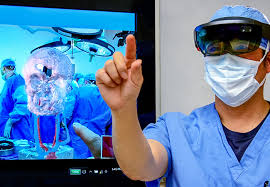hololens: (193, 17, 270, 57)
